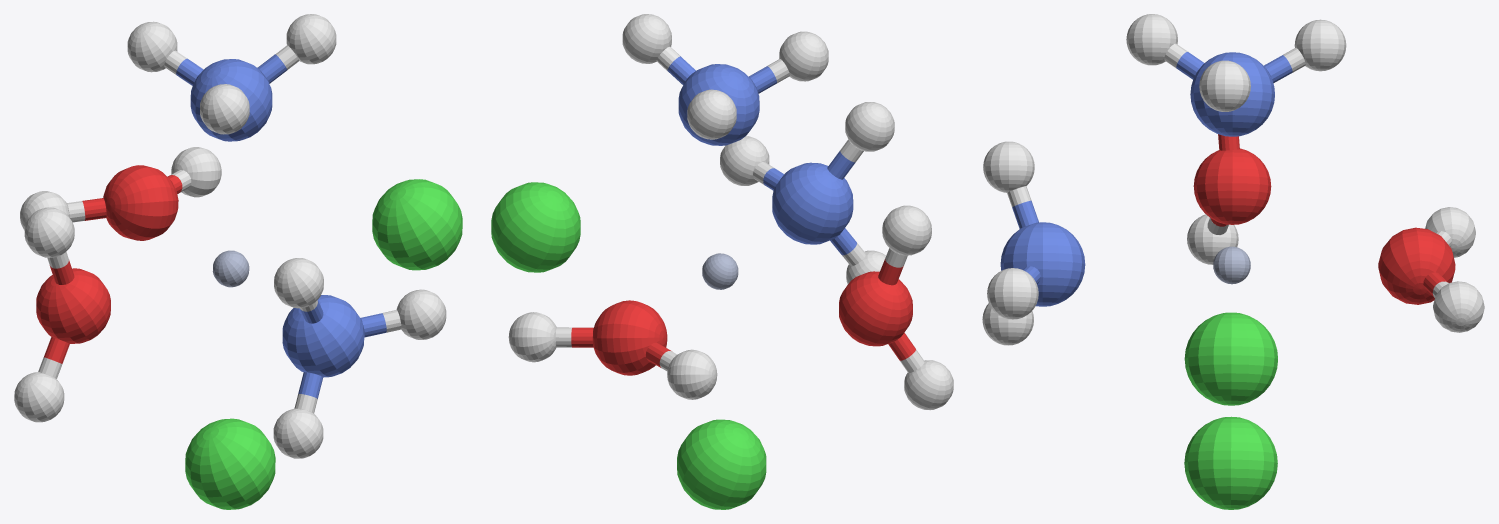
The model's file is l-cis-diacuodiclorodiamminhierro.gltf.
3 renders of one model, left to right at view 1: azimuth 30°, elevation 25°; view 2: azimuth 150°, elevation 25°; view 3: azimuth 270°, elevation 25°, orthographic. The views are drawn at different scales.
Visible parts, largest first — view 1: ShapeSphere.009_ShapeSphere.010, ShapeSphere.008_ShapeSphere.009, ShapeSphere.001_ShapeSphere.002, ShapeSphere.005_ShapeSphere.006, ShapeSphere.014_ShapeSphere.015, ShapeSphere.010_ShapeSphere.011, ShapeSphere.015_ShapeSphere.016, ShapeSphere.012_ShapeSphere.013, ShapeSphere.002_ShapeSphere.003, ShapeSphere.003_ShapeSphere.004, ShapeSphere.016_ShapeSphere, ShapeSphere.013_ShapeSphere.014 (+5 smaller); view 2: ShapeSphere.009_ShapeSphere.010, ShapeSphere.008_ShapeSphere.009, ShapeSphere.001_ShapeSphere.002, ShapeSphere.014_ShapeSphere.015, ShapeSphere.005_ShapeSphere.006, ShapeSphere.010_ShapeSphere.011, ShapeSphere.015_ShapeSphere.016, ShapeSphere.007_ShapeSphere.008, ShapeSphere.011_ShapeSphere.012, ShapeSphere.002_ShapeSphere.003, ShapeSphere.006_ShapeSphere.007, ShapeSphere.012_ShapeSphere.013 (+5 smaller); view 3: ShapeSphere.009_ShapeSphere.010, ShapeSphere.008_ShapeSphere.009, ShapeSphere.014_ShapeSphere.015, ShapeSphere.001_ShapeSphere.002, ShapeSphere.005_ShapeSphere.006, ShapeSphere.010_ShapeSphere.011, ShapeSphere.013_ShapeSphere.014, ShapeSphere.004_ShapeSphere.005, ShapeSphere.006_ShapeSphere.007, ShapeSphere.002_ShapeSphere.003, ShapeSphere.011_ShapeSphere.012, ShapeSphere.012_ShapeSphere.013 (+4 smaller).
Part boxes in pixels (x1=…): ShapeSphere.009_ShapeSphere.010: x1=372, y1=179, x2=462, y2=270; ShapeSphere.008_ShapeSphere.009: x1=185, y1=418, x2=275, y2=509; ShapeSphere.001_ShapeSphere.002: x1=282, y1=295, x2=364, y2=377; ShapeSphere.005_ShapeSphere.006: x1=103, y1=165, x2=178, y2=240; ShapeSphere.014_ShapeSphere.015: x1=36, y1=268, x2=110, y2=343; ShapeSphere.010_ShapeSphere.011: x1=190, y1=59, x2=272, y2=141; ShapeSphere.015_ShapeSphere.016: x1=24, y1=207, x2=74, y2=257; ShapeSphere.012_ShapeSphere.013: x1=200, y1=84, x2=249, y2=134; ShapeSphere.002_ShapeSphere.003: x1=274, y1=258, x2=323, y2=308; ShapeSphere.003_ShapeSphere.004: x1=273, y1=408, x2=323, y2=458; ShapeSphere.016_ShapeSphere: x1=14, y1=372, x2=64, y2=422; ShapeSphere.013_ShapeSphere.014: x1=286, y1=14, x2=336, y2=64; ShapeSphere.009_ShapeSphere.010: x1=491, y1=182, x2=580, y2=272; ShapeSphere.008_ShapeSphere.009: x1=677, y1=419, x2=766, y2=509; ShapeSphere.001_ShapeSphere.002: x1=772, y1=162, x2=853, y2=244; ShapeSphere.014_ShapeSphere.015: x1=839, y1=271, x2=912, y2=346; ShapeSphere.005_ShapeSphere.006: x1=593, y1=300, x2=667, y2=375; ShapeSphere.010_ShapeSphere.011: x1=678, y1=64, x2=759, y2=145; ShapeSphere.015_ShapeSphere.016: x1=882, y1=205, x2=931, y2=255; ShapeSphere.007_ShapeSphere.008: x1=667, y1=349, x2=717, y2=399; ShapeSphere.011_ShapeSphere.012: x1=687, y1=89, x2=736, y2=139; ShapeSphere.002_ShapeSphere.003: x1=845, y1=102, x2=894, y2=151; ShapeSphere.006_ShapeSphere.007: x1=508, y1=312, x2=556, y2=362; ShapeSphere.012_ShapeSphere.013: x1=779, y1=31, x2=828, y2=81; ShapeSphere.009_ShapeSphere.010: x1=1184, y1=312, x2=1277, y2=405; ShapeSphere.008_ShapeSphere.009: x1=1184, y1=416, x2=1277, y2=509; ShapeSphere.014_ShapeSphere.015: x1=1193, y1=148, x2=1271, y2=224; ShapeSphere.001_ShapeSphere.002: x1=1000, y1=222, x2=1085, y2=306; ShapeSphere.005_ShapeSphere.006: x1=1378, y1=227, x2=1455, y2=304; ShapeSphere.010_ShapeSphere.011: x1=1190, y1=52, x2=1274, y2=136; ShapeSphere.013_ShapeSphere.014: x1=1199, y1=60, x2=1250, y2=111; ShapeSphere.004_ShapeSphere.005: x1=987, y1=268, x2=1038, y2=319; ShapeSphere.006_ShapeSphere.007: x1=1433, y1=281, x2=1484, y2=332; ShapeSphere.002_ShapeSphere.003: x1=983, y1=141, x2=1034, y2=192; ShapeSphere.011_ShapeSphere.012: x1=1294, y1=19, x2=1346, y2=71; ShapeSphere.012_ShapeSphere.013: x1=1126, y1=14, x2=1177, y2=65.
Bounding box in the file's own units: 5.11 × 5.14 × 4.86.
